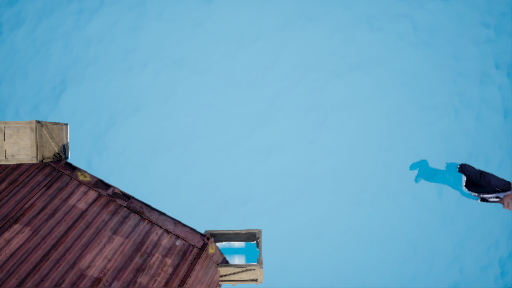person: (411, 158, 512, 212)
